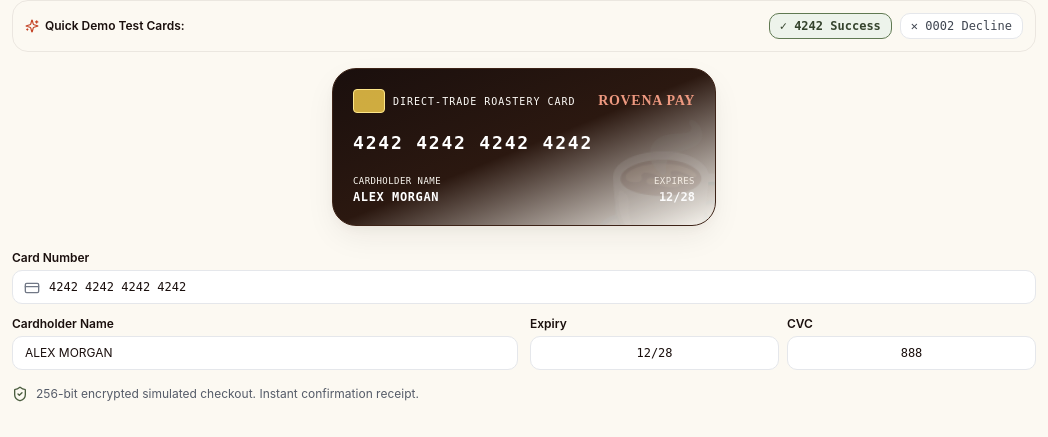
Test: Checkout & Cart UI Components — Unit Tests (Milestone 4) › PaymentSimulator › switches to decline mode when 0002 test card chip is clicked
Click the button "✕ 0002 Decline": [961, 26] box [900,13,1023,39]
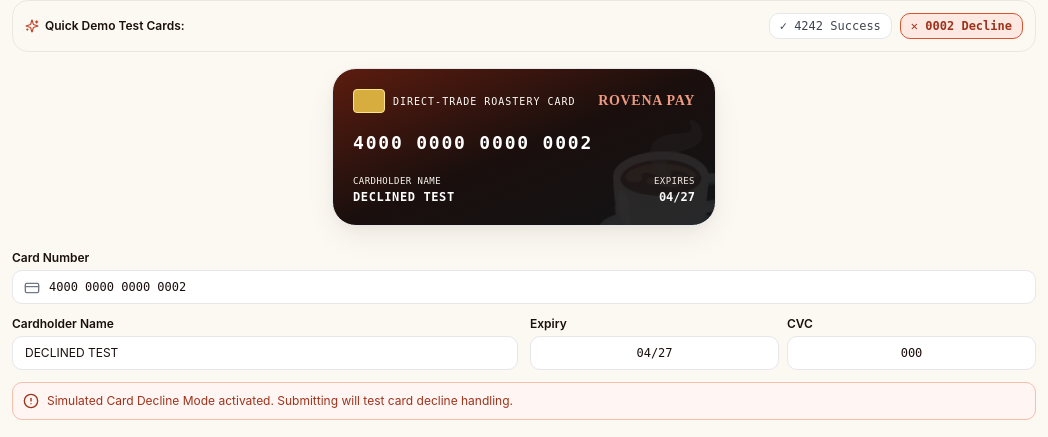
Expected: the text "Simulated Card Decline Mode" is shown, [47,393,513,408]
